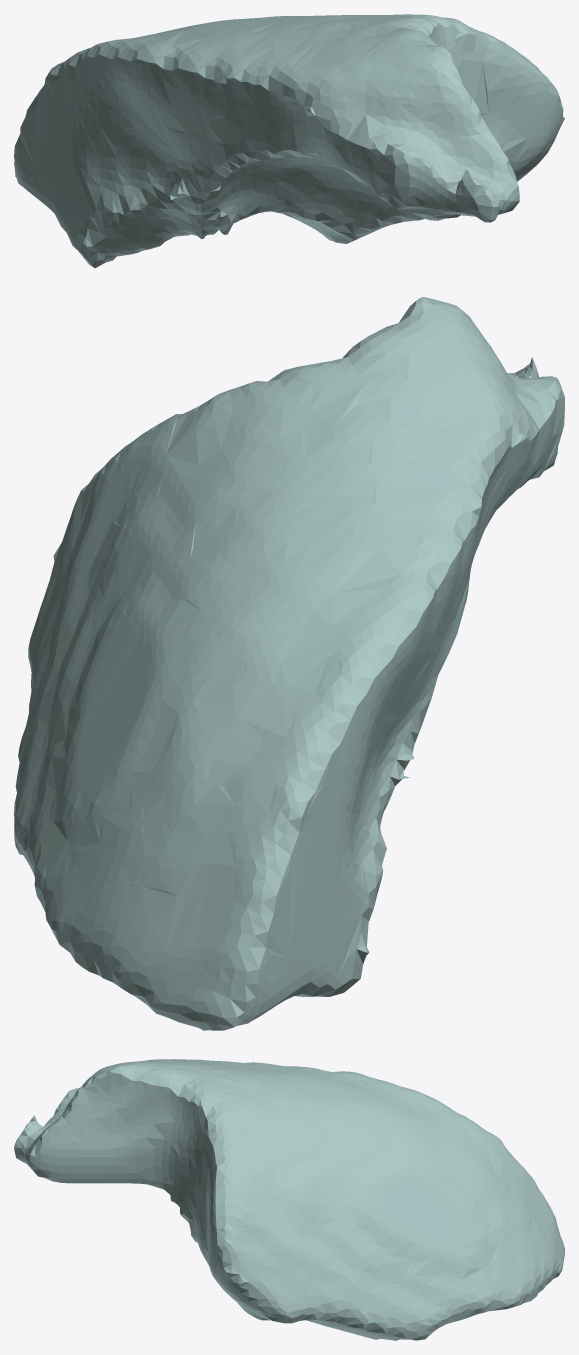
The model's file is Model_139_RH__Temporopolar_proisocortex_(TPPro).obj.
The picture shows the model from 3 angles, top to bottom: view 1: azimuth 30°, elevation 25°; view 2: azimuth 150°, elevation 25°; view 3: azimuth 270°, elevation 25°; orthographic projection. The views are drawn at different scales.
Size of the model in its own units: 3.3 by 2.95 by 5.67.
